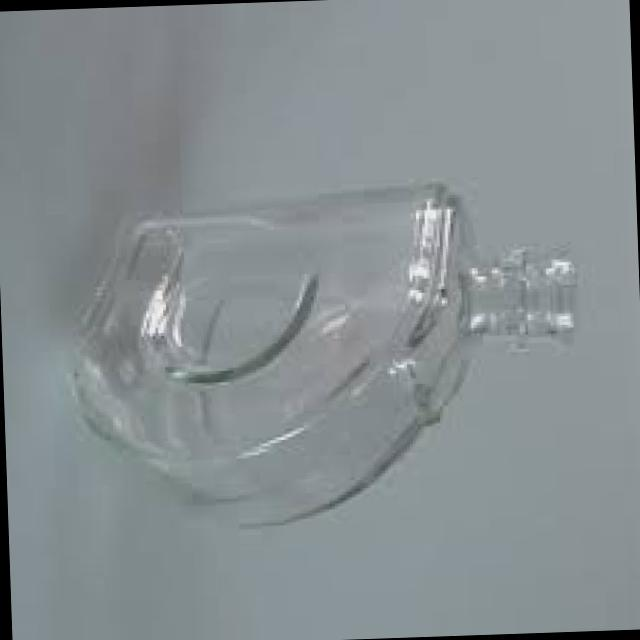bottle: (76, 187, 574, 526)
